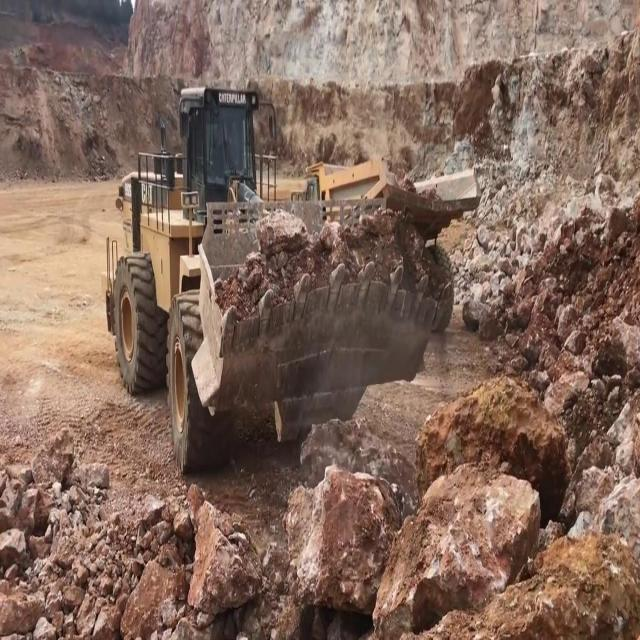Dump Truck: (291, 160, 483, 225)
Loader: (100, 84, 452, 477)
